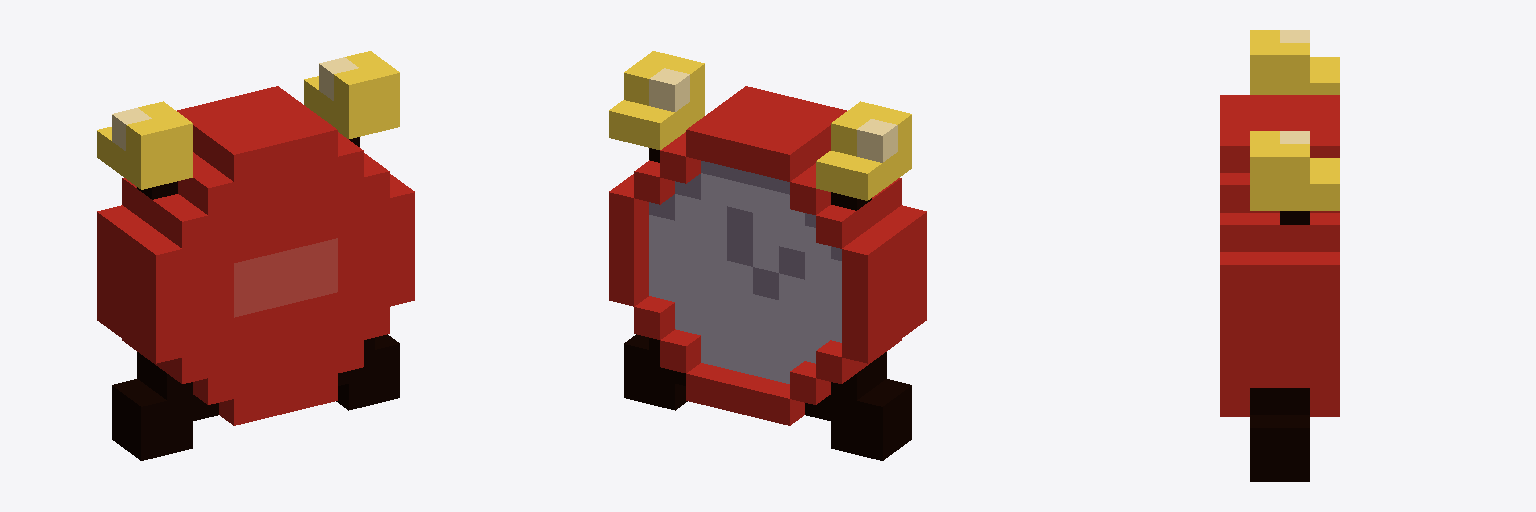
3 renders of one model, left to right at view 1: azimuth 30°, elevation 25°; view 2: azimuth 150°, elevation 25°; view 3: azimuth 270°, elevation 25°, orthographic.
Parts seen in each view (by area): view 1: object 1; view 2: object 1; view 3: object 1.
Part boxes in pixels (bbox=[...]): object 1: bbox=[97, 51, 414, 460]; object 1: bbox=[609, 51, 926, 460]; object 1: bbox=[1220, 30, 1339, 481].
Size of the model in its own units: 1 by 1.2 by 0.4.
1 materials, 1 textured.